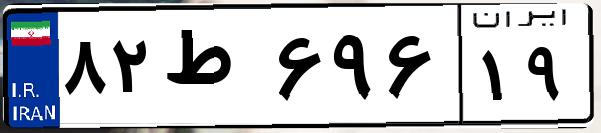1: (475, 38, 525, 113)
2: (110, 28, 158, 98)
6: (270, 28, 330, 110), (385, 28, 445, 110)
8: (57, 26, 110, 100)
9: (330, 28, 385, 110), (525, 38, 570, 115)
ط: (158, 20, 270, 120)
